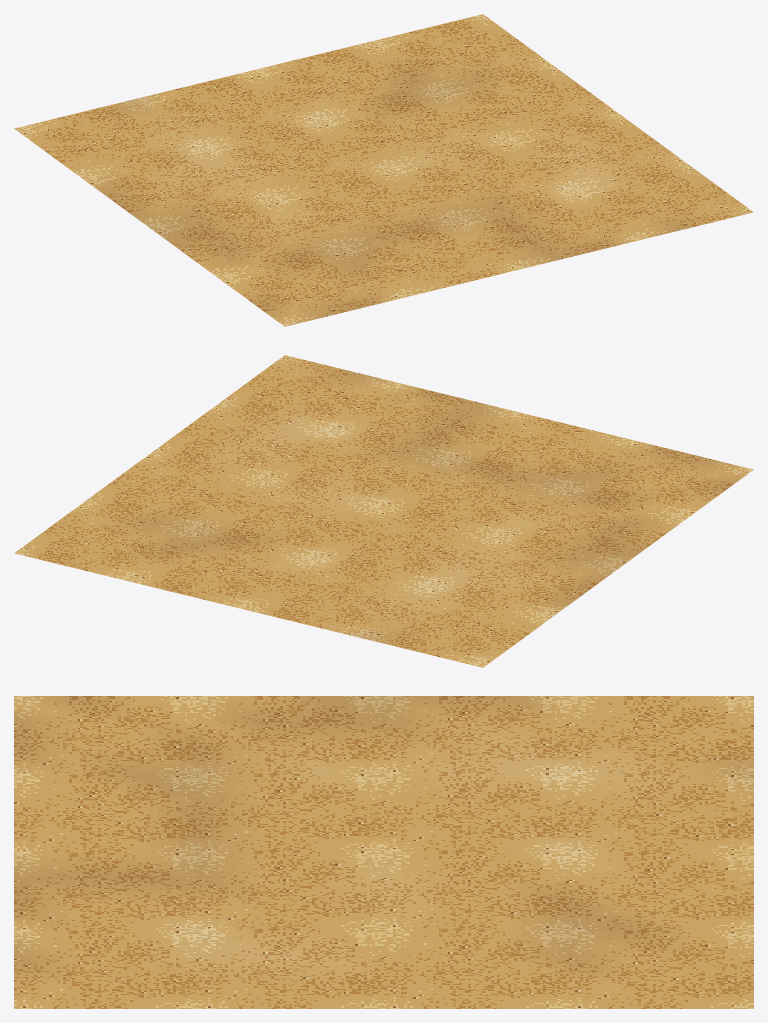
The model's file is wland.ground__desert.glb.
The picture shows the model from 3 angles, top to bottom: view 1: azimuth 30°, elevation 25°; view 2: azimuth 150°, elevation 25°; view 3: azimuth 270°, elevation 25°; orthographic projection. The views are drawn at different scales.
Visible parts, largest first — view 1: kit_shell_ground; view 2: kit_shell_ground; view 3: kit_shell_ground.
Boxes of the visible parts, left/top/right/bottom form: kit_shell_ground: left=14, top=14, right=753, bottom=326; kit_shell_ground: left=14, top=355, right=753, bottom=667; kit_shell_ground: left=14, top=696, right=753, bottom=1008.
Size of the model in its own units: 24 by 0.1265 by 24.
Materials: 1 (1 with a texture image).
